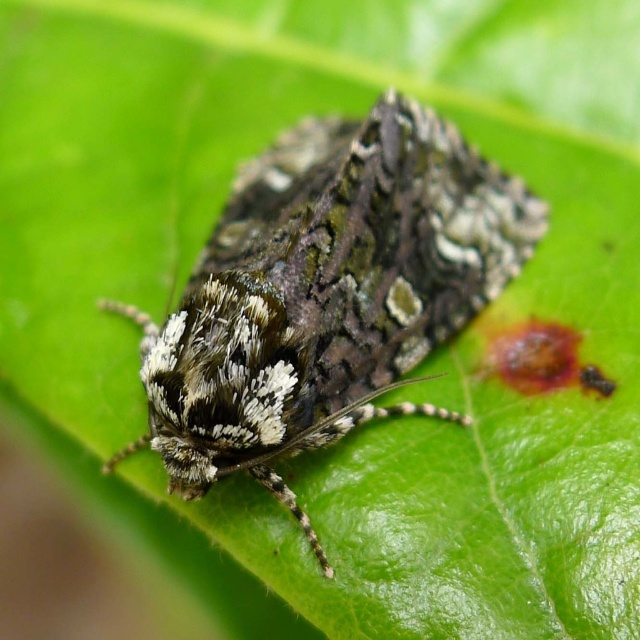Moths and butterflies: (98, 81, 552, 580)
